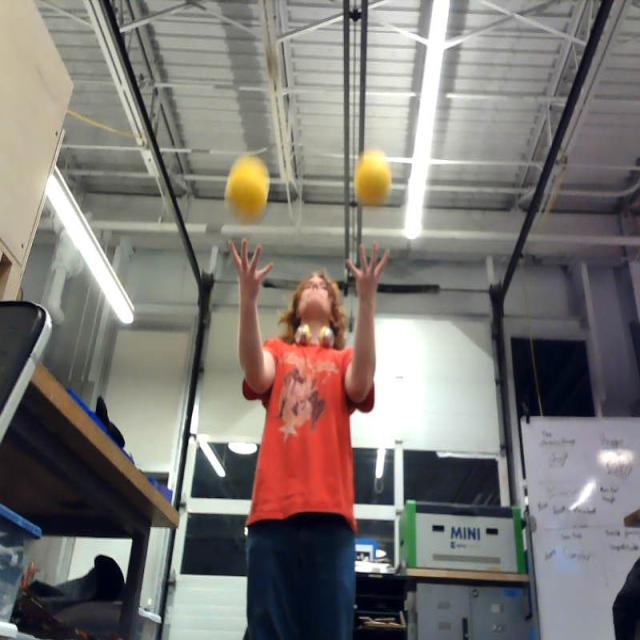Fuel: (228, 164, 268, 220), (356, 158, 390, 206)
